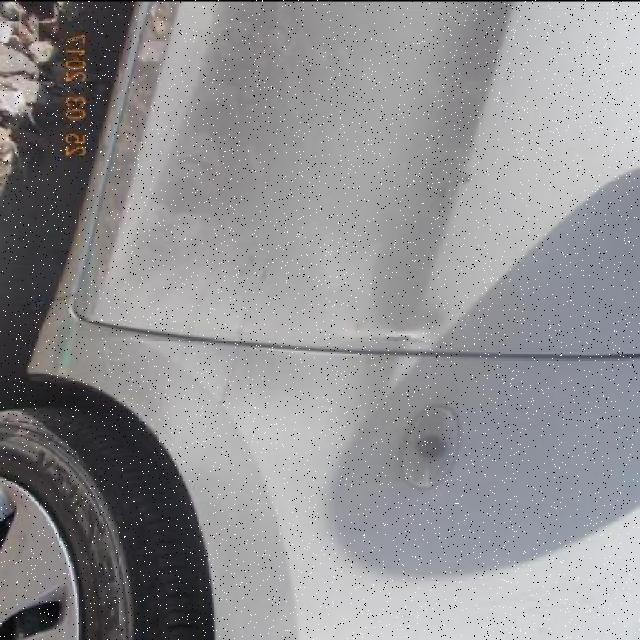damage: (211, 244, 273, 405), (171, 252, 224, 363), (368, 325, 429, 344)
